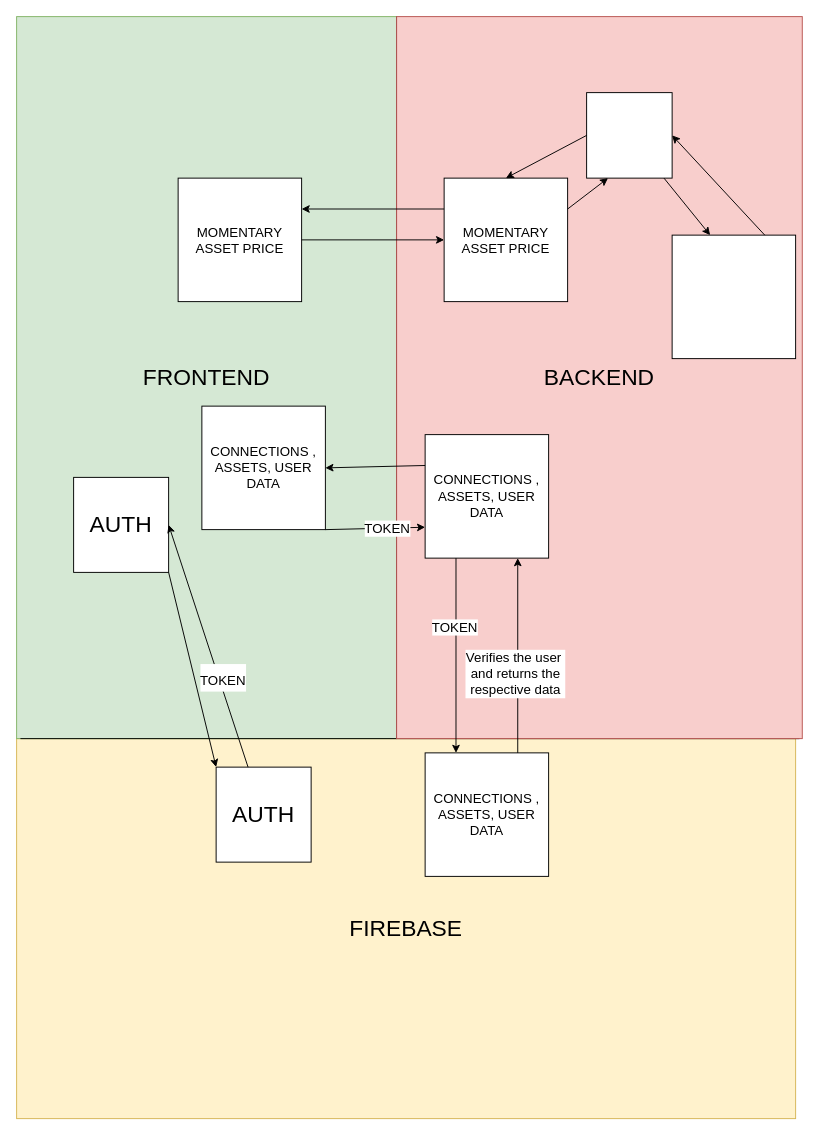
Image size: 819x1135. Some labels were removed from this diagram. The centre of each missing label's shape, as x and y in pixels:
CACHE: [629,135]
COINMARKETCAP, BINANCE: [733,296]
